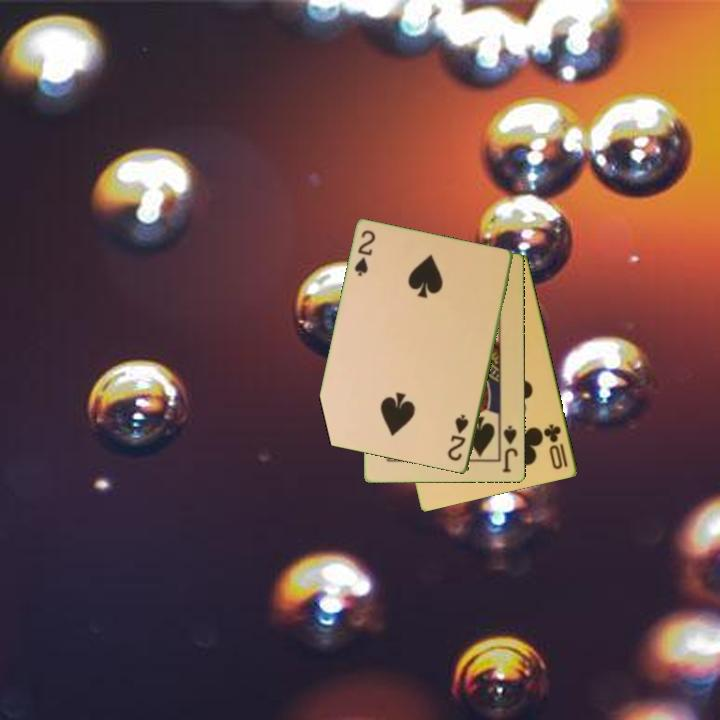10c: (541, 421, 571, 473)
2s: (444, 411, 472, 464), (351, 227, 379, 279)
Js: (499, 422, 521, 476)
